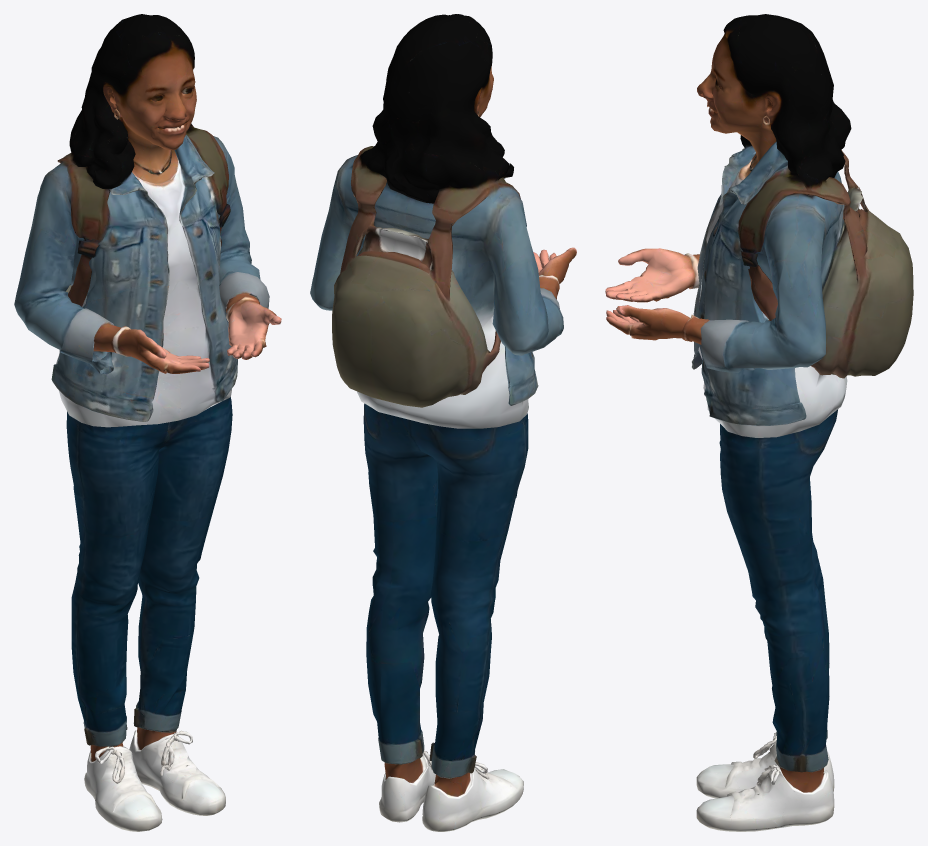
The model's file is speaker-student-f.glb.
3 renders of one model, left to right at view 1: azimuth 30°, elevation 25°; view 2: azimuth 150°, elevation 25°; view 3: azimuth 270°, elevation 25°, orthographic.
Parts seen in each view (by area): view 1: geometry_0; view 2: geometry_0; view 3: geometry_0.
Boxes of the visible parts, x1,y1,x2,y2 form: geometry_0: [14, 14, 281, 831]; geometry_0: [310, 14, 576, 831]; geometry_0: [605, 14, 913, 831].
Bounding box in the file's own units: 0.2891 × 0.9507 × 0.3365.
1 material, 1 textured.
